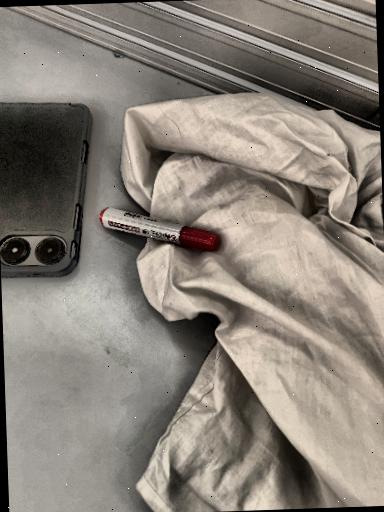marcador rojo: (99, 207, 219, 251)
